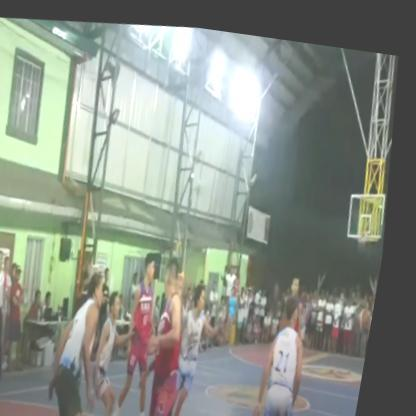rim: (358, 206, 381, 248)
